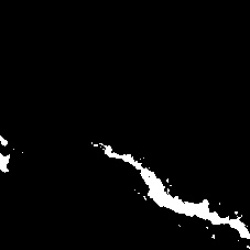crack: (91, 141, 249, 242), (0, 153, 11, 173), (0, 135, 9, 146)
